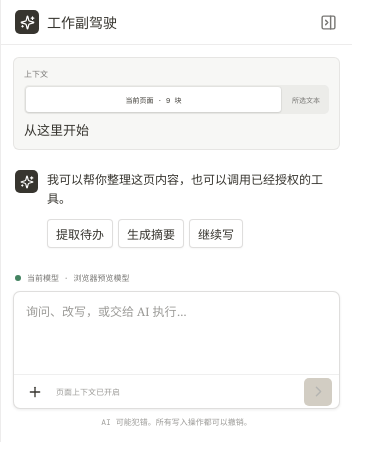
Test: AIPanel › exposes the selected-text context as a pressed state
What coordinates should you click on to do the following:
click the button "所选文本"
I would click on:
 (306, 100)
Its box is [285, 87, 327, 112].
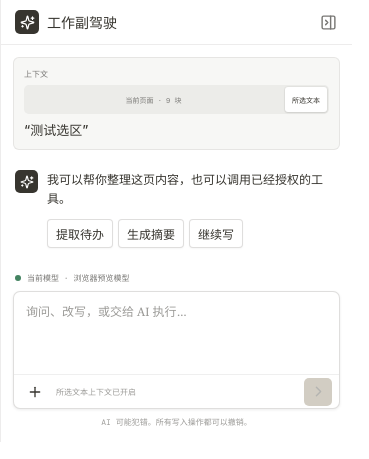
Expected: the text "“测试选区”" is shown, [24, 122, 88, 138]
